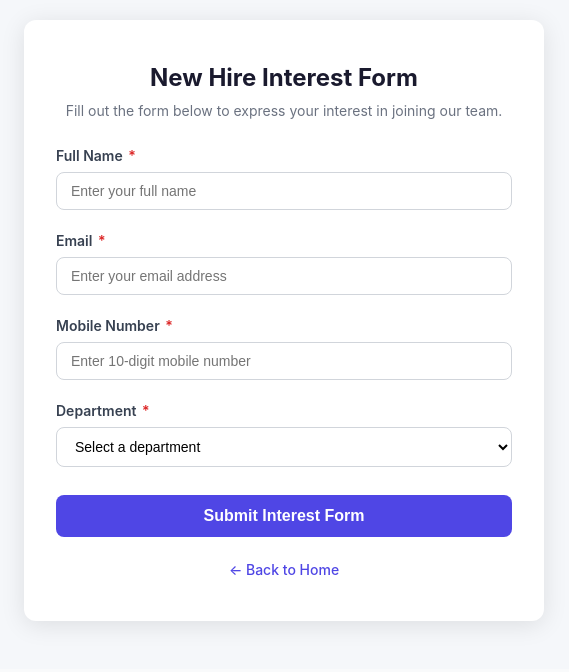
it: InterestForm › storage error handling › shows error when storage fails to save
The image size is (569, 672).
Type "John Doe" into the field labelled "Full Name *" at (284, 191), box left=56, top=172, right=512, bottom=210
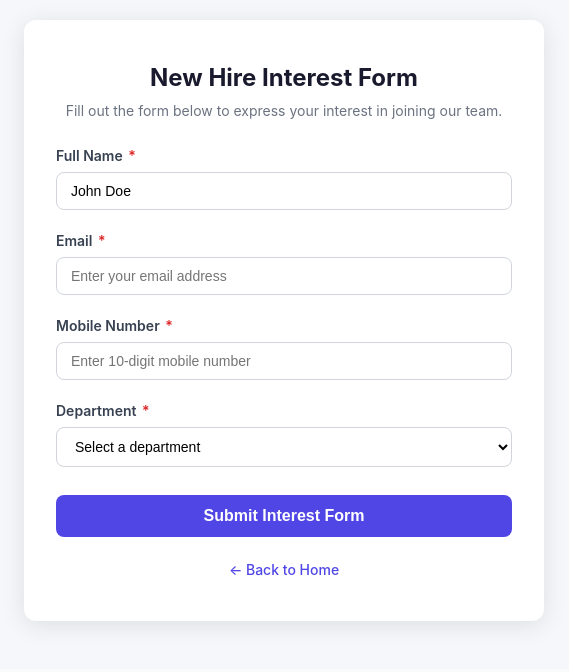
Type "john@example.com" into the field labelled "Email *" at (284, 276), box left=56, top=257, right=512, bottom=295
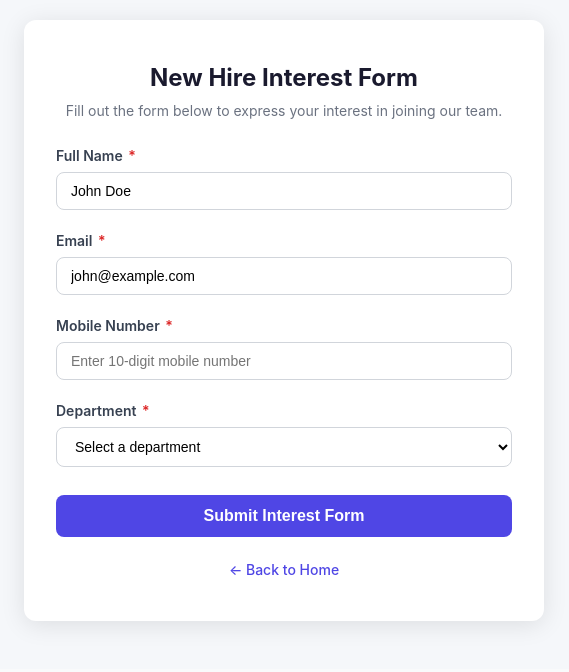
Type "9876543210" into the field labelled "Mobile Number *" at (284, 361), box left=56, top=342, right=512, bottom=380
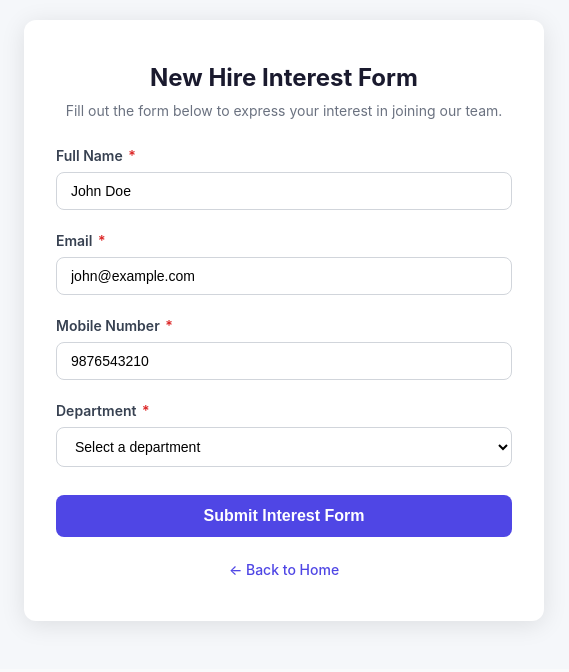
Select "Engineering" in the dropdown labelled "Department *" at (284, 447), box left=56, top=427, right=512, bottom=467
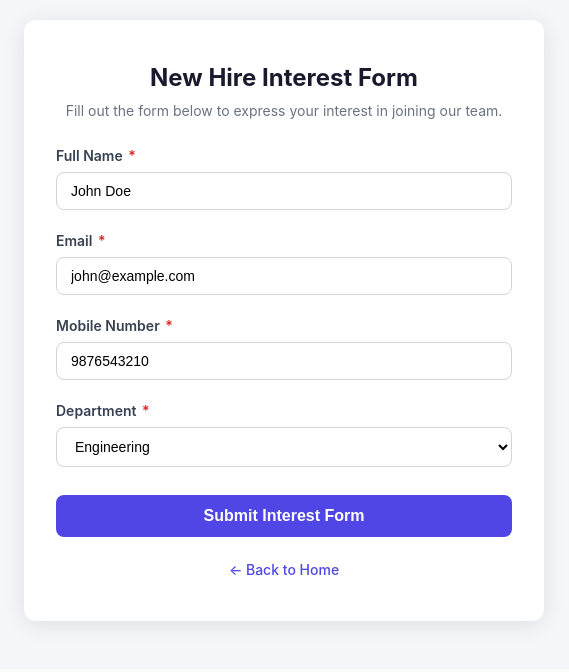
Click the button "Submit Interest Form" at (284, 516), box left=56, top=495, right=512, bottom=537
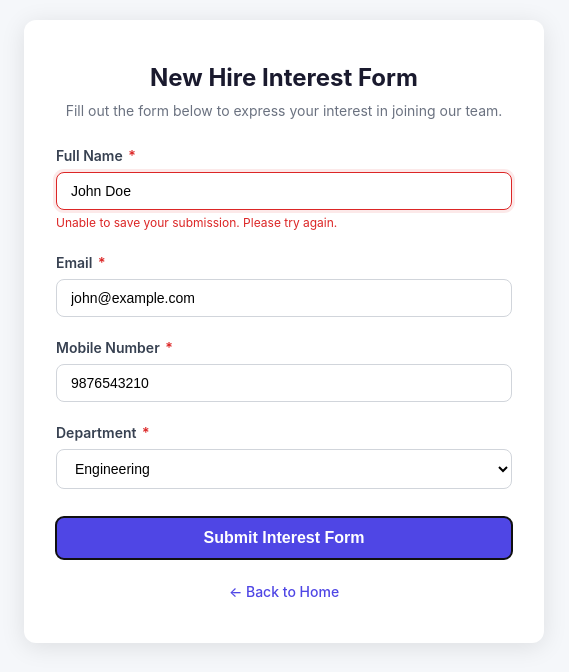
expect the text "Unable to save your submission. Please try again." is shown: met, box left=56, top=215, right=337, bottom=230
